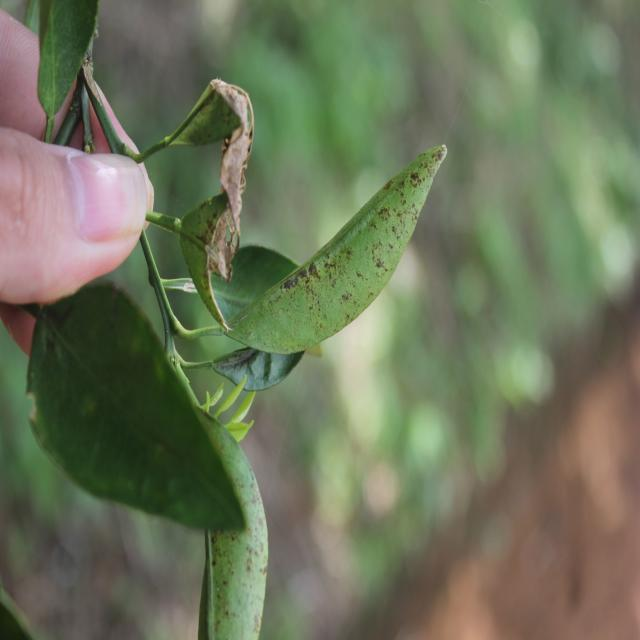melanose: (236, 141, 449, 373), (175, 408, 278, 640)
